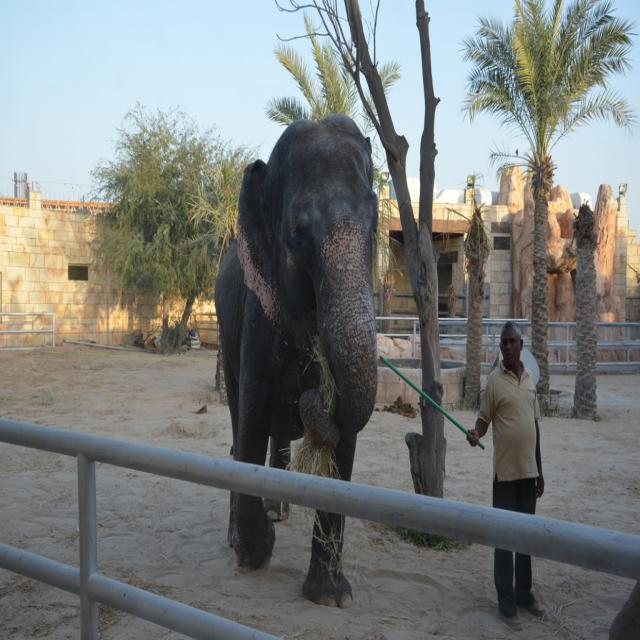elephant: (212, 102, 391, 606)
